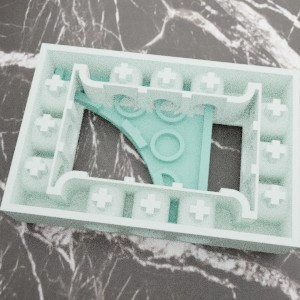lego: (0, 43, 299, 254), (50, 58, 215, 238)
